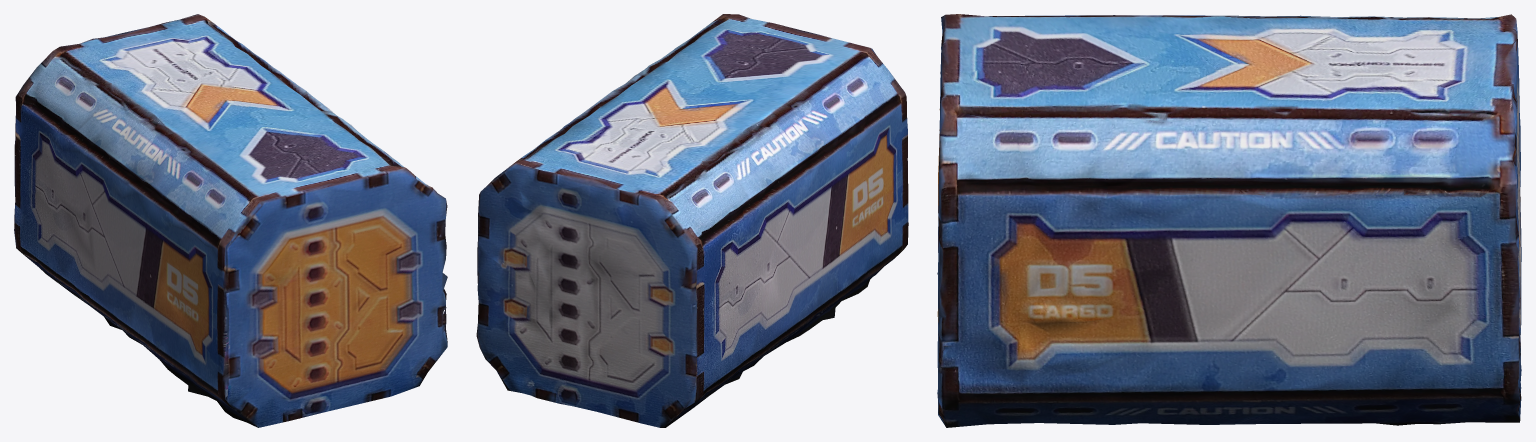
Rendered from cargo-size-3.glb.
3 views of the same model, side by side, from view 1: azimuth 30°, elevation 25°; view 2: azimuth 150°, elevation 25°; view 3: azimuth 270°, elevation 25° (orthographic). The views are drawn at different scales.
Parts seen in each view (by area): view 1: Container_blue; view 2: Container_blue; view 3: Container_blue.
Boxes of the visible parts, bbox=[...] form: Container_blue: bbox=[14, 14, 447, 427]; Container_blue: bbox=[476, 14, 908, 427]; Container_blue: bbox=[937, 14, 1521, 427].
Size of the model in its own units: 2.46 by 2.35 by 4.02.
Materials: 1 (1 with a texture image).
